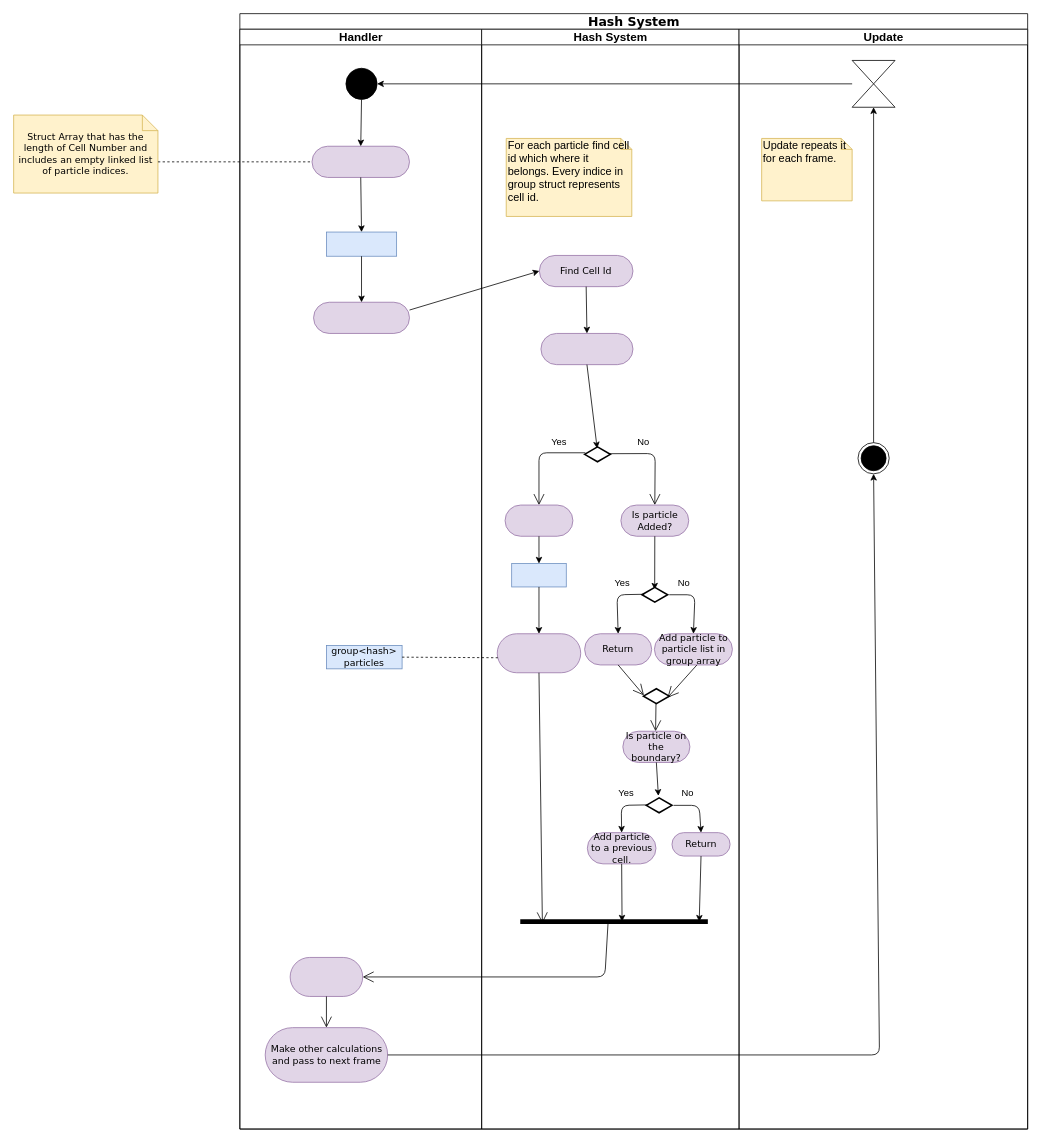
Image size: 1041x1143. Some labels were removed from this diagram. The shapes that lost their labels are listed below. From the top down, each one's centre as x and y in pixels, then its label:
[360,161]: Create Struct For Hashing Algorithm
[361,243]: groups[]<hash>
[361,317]: Send Particles Radius and Groups
[586,349]: Is cell empty?
[538,520]: Create Particle List
[538,575]: List<int> particles
[538,653]: Set particle list into group struct array
[326,976]: Send Hashed Particles
